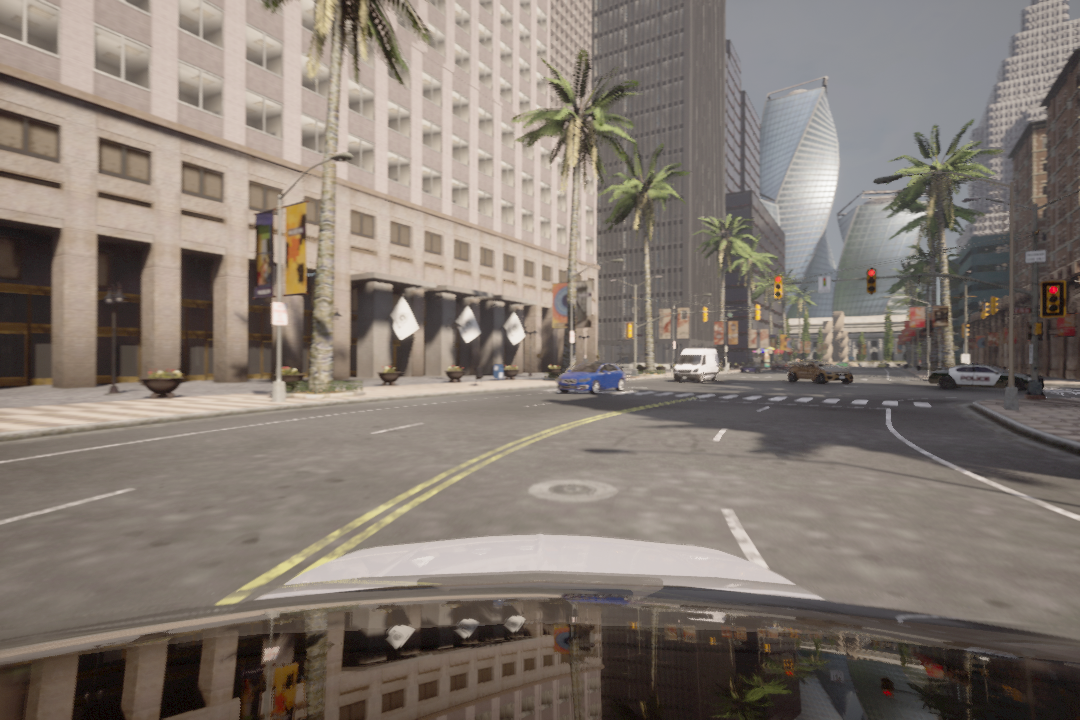TrafficLight: (1041, 282, 1067, 318), (865, 270, 877, 298), (771, 275, 783, 299)
walkside: (561, 386, 937, 416)
